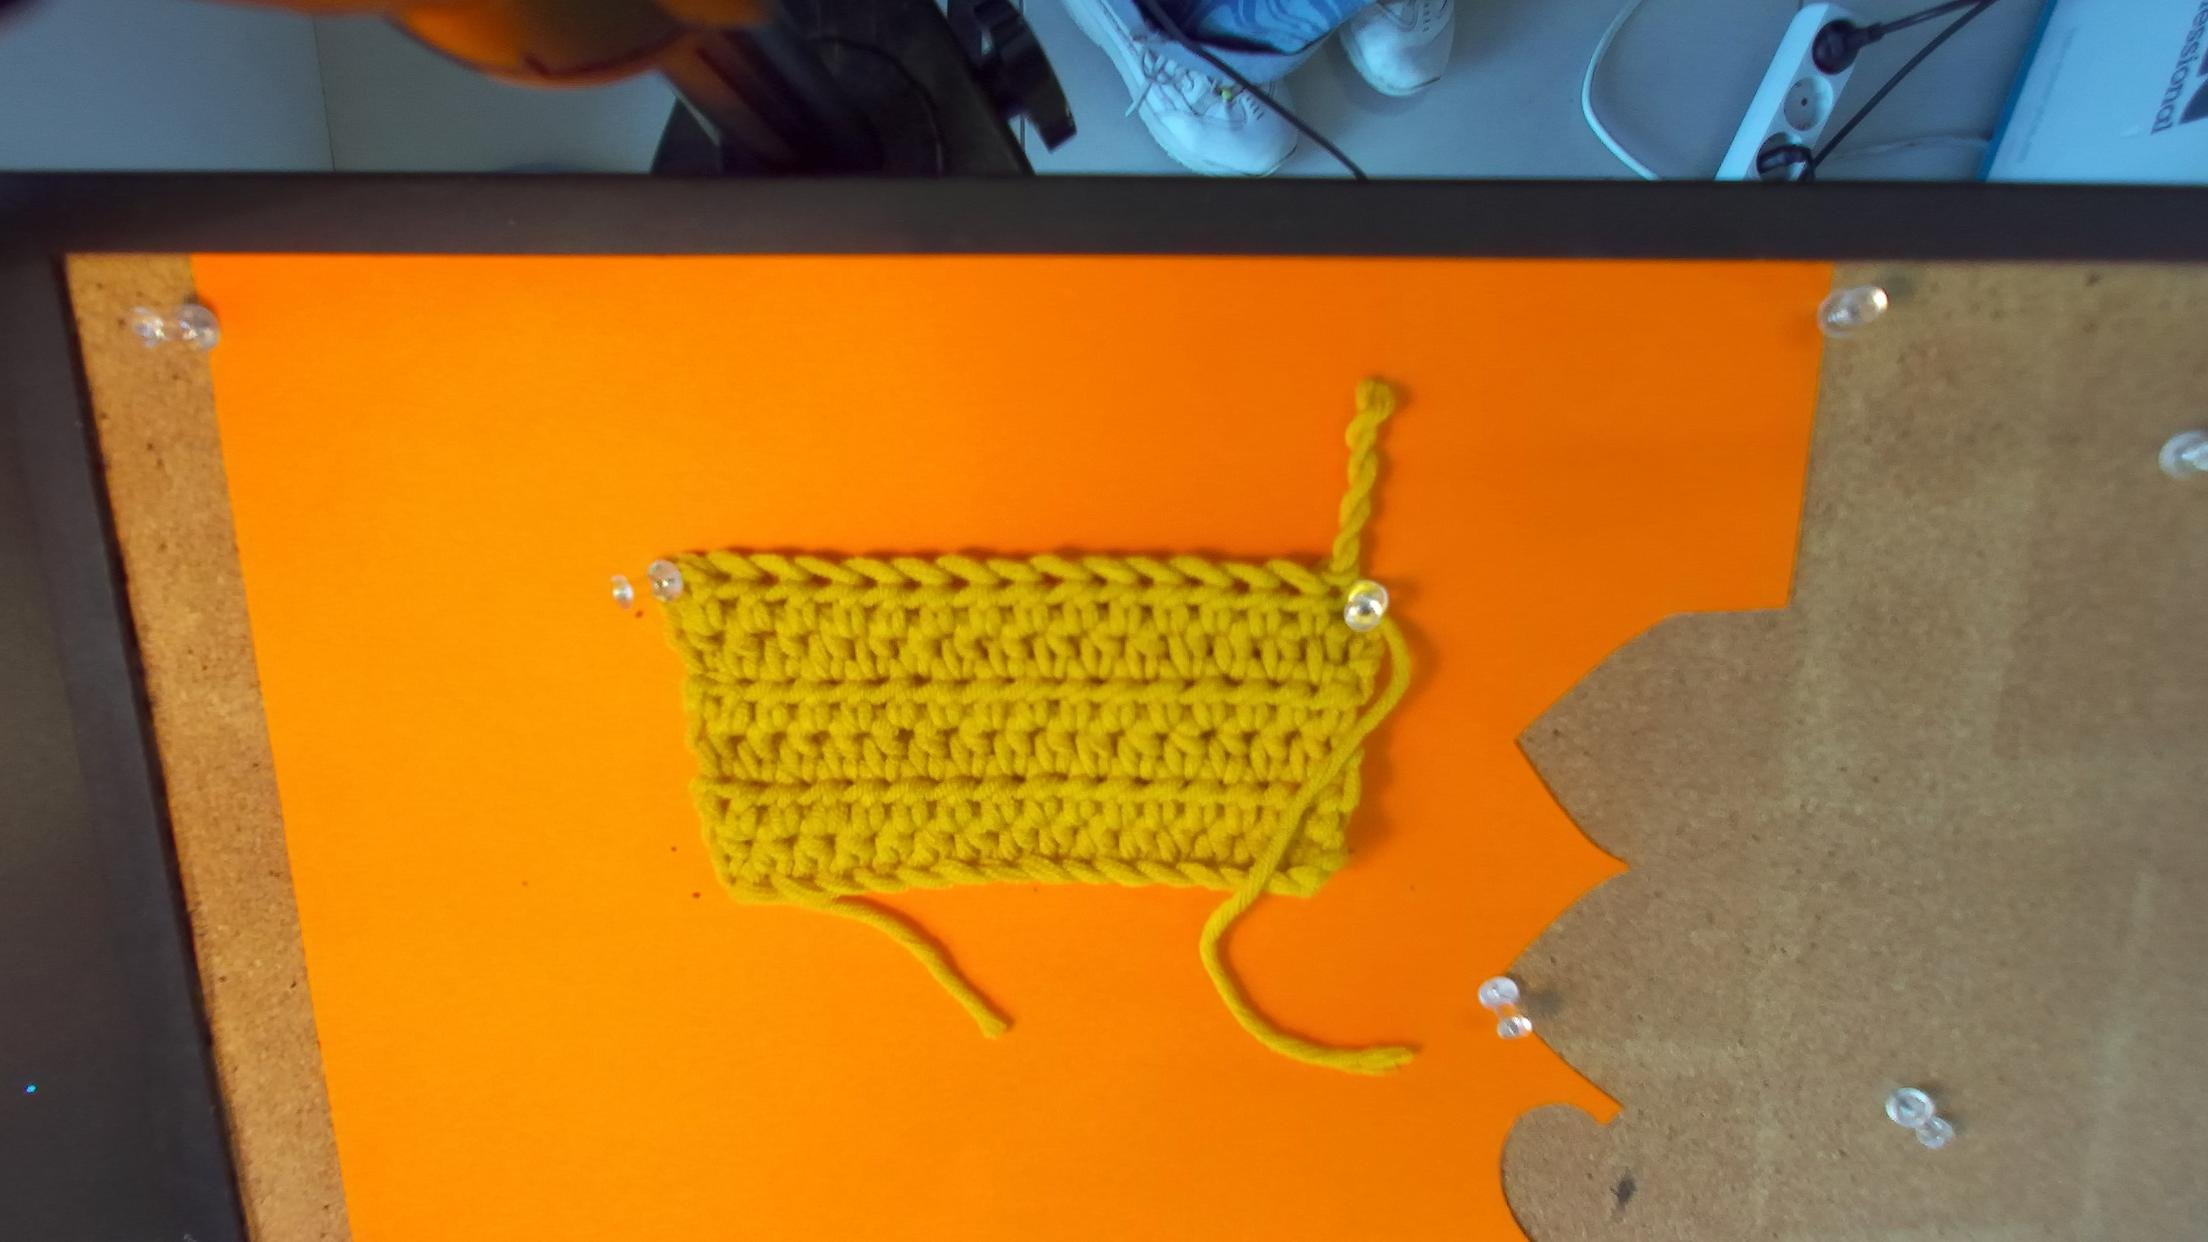hole: (943, 572, 971, 593), (1224, 576, 1251, 596), (1274, 578, 1301, 597), (754, 569, 779, 588), (1039, 572, 1066, 590), (805, 573, 834, 588), (899, 576, 924, 593), (857, 573, 878, 591), (711, 569, 734, 584), (993, 575, 1016, 590), (1136, 573, 1156, 590), (1183, 575, 1204, 588), (1092, 572, 1110, 587), (1327, 585, 1344, 601)
swatch: (614, 535, 1419, 910)
